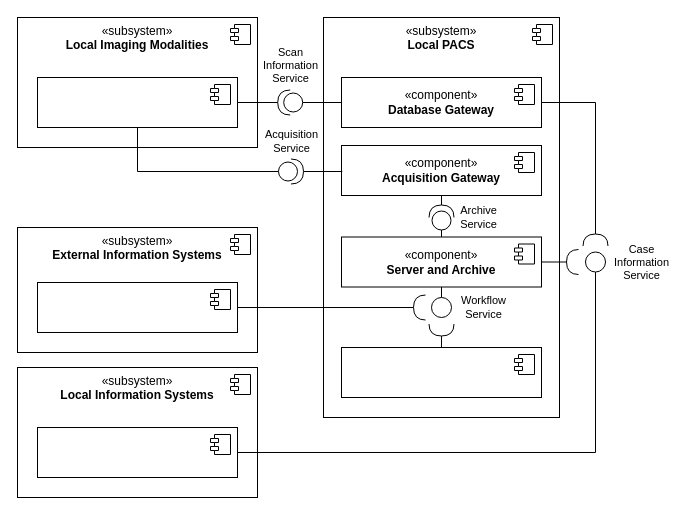
The diagram is 699 pixels wide and 515 high, and some of its shapes have lost their labels. Each missing label, with the centre of its shape:
"«component » Application Server" belongs at point (137, 307).
"«component » Image Scanner" belongs at point (137, 102).
"«component » LIS Database" belongs at point (137, 452).
"«component » PACS Workstation" belongs at point (441, 372).
